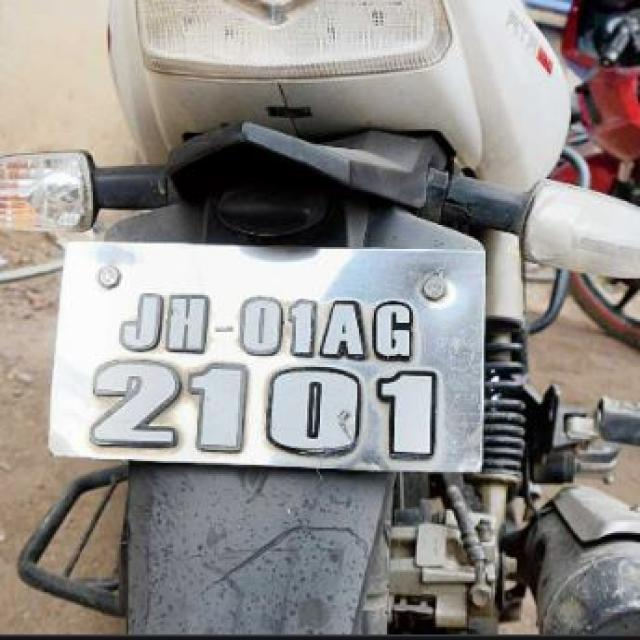number plate: (45, 236, 488, 474)
